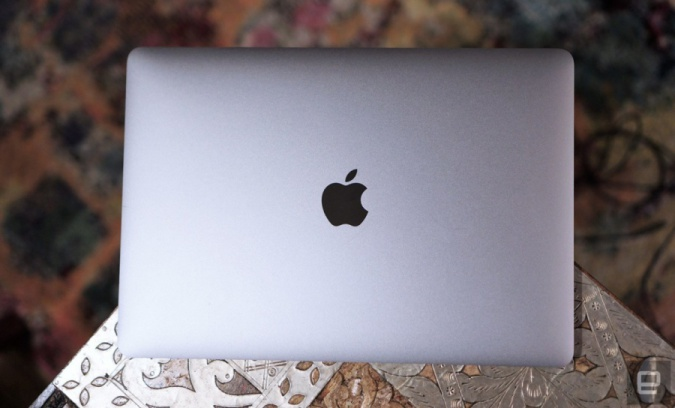apple: (303, 152, 383, 238)
